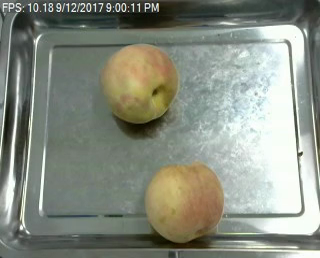Peach: (145, 161, 224, 244), (100, 42, 179, 123)
